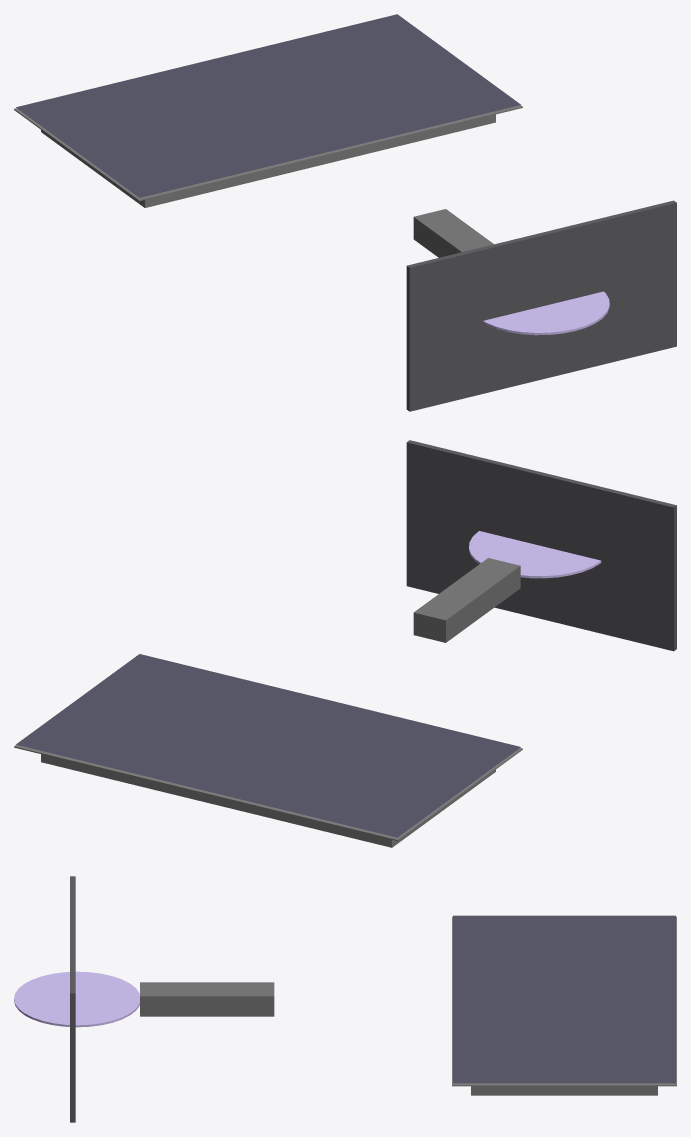
Rendered from Spectra32OLED.glb.
3 views of the same model, one above another, from view 1: azimuth 30°, elevation 25°; view 2: azimuth 150°, elevation 25°; view 3: azimuth 270°, elevation 25° (orthographic). The views are drawn at different scales.
Parts seen in each view (by area): view 1: Spectra32OLED; view 2: Spectra32OLED; view 3: Spectra32OLED.
Part boxes in pixels (x1=…): Spectra32OLED: x1=14, y1=14, x2=676, y2=411; Spectra32OLED: x1=14, y1=440, x2=676, y2=847; Spectra32OLED: x1=14, y1=876, x2=676, y2=1122.
Size of the model in its own units: 0.356 by 0.1274 by 0.5921.
